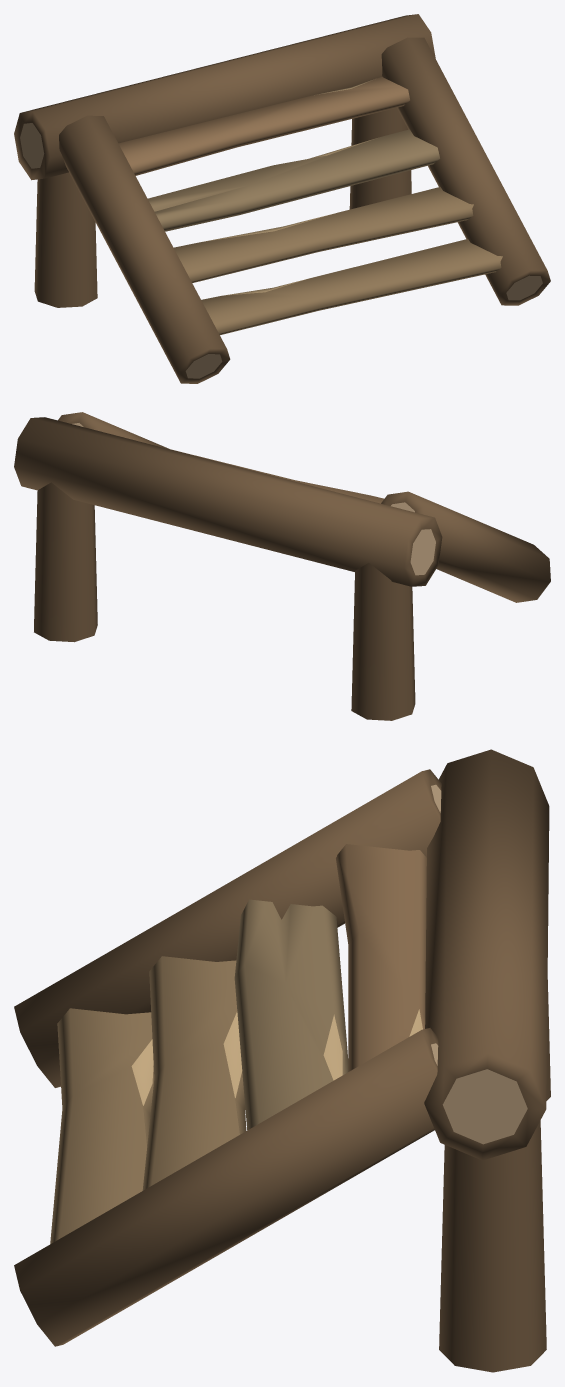
File: rpgpp_ag_stairs_entrance_03.fbx
3 views of the same model, one above another, from view 1: azimuth 30°, elevation 25°; view 2: azimuth 150°, elevation 25°; view 3: azimuth 270°, elevation 25° (orthographic). The views are drawn at different scales.
Visible parts, largest first — view 1: rpgpp_ag_stairs_entrance_03; view 2: rpgpp_ag_stairs_entrance_03; view 3: rpgpp_ag_stairs_entrance_03.
Part boxes in pixels (x1,y1,x2,y2): rpgpp_ag_stairs_entrance_03: (14,14,550,383); rpgpp_ag_stairs_entrance_03: (14,412,550,720); rpgpp_ag_stairs_entrance_03: (14,749,550,1372).
Bounding box in the file's own units: 2.42 × 1.18 × 1.76.
